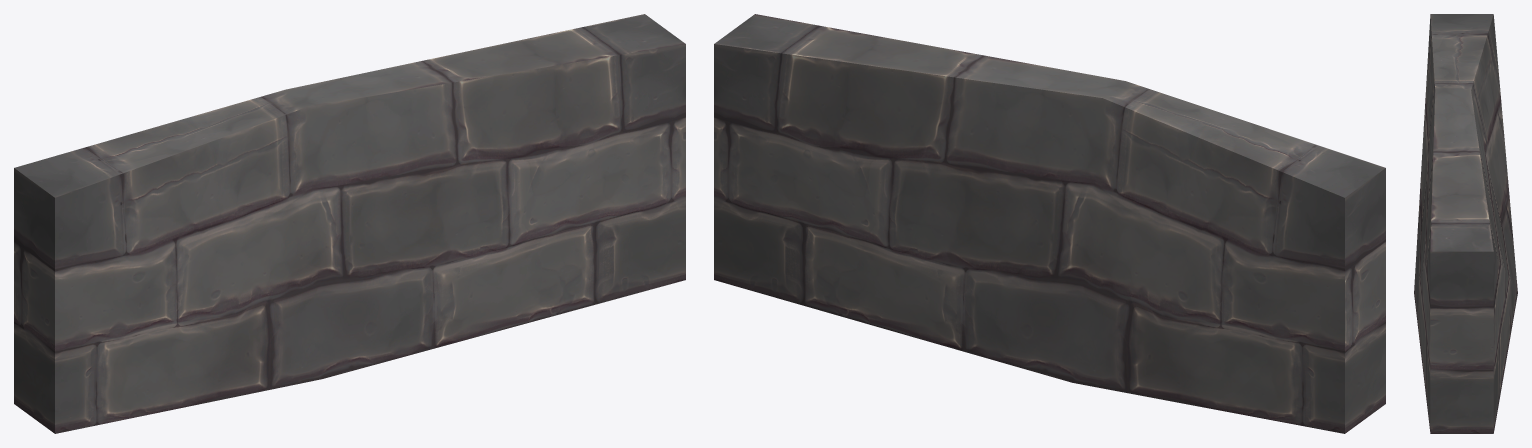
The model's file is ARC0110022.fbx.
3 views of the same model, side by side, from view 1: azimuth 30°, elevation 25°; view 2: azimuth 150°, elevation 25°; view 3: azimuth 270°, elevation 25° (orthographic). The views are drawn at different scales.
Parts seen in each view (by area): view 1: smARC0110022; view 2: smARC0110022; view 3: smARC0110022.
Part boxes in pixels (bbox=[...]): smARC0110022: bbox=[14, 14, 685, 433]; smARC0110022: bbox=[714, 14, 1385, 433]; smARC0110022: bbox=[1414, 14, 1517, 433].
Size of the model in its own units: 152 by 60.45 by 28.1.
1 material, 1 textured.
